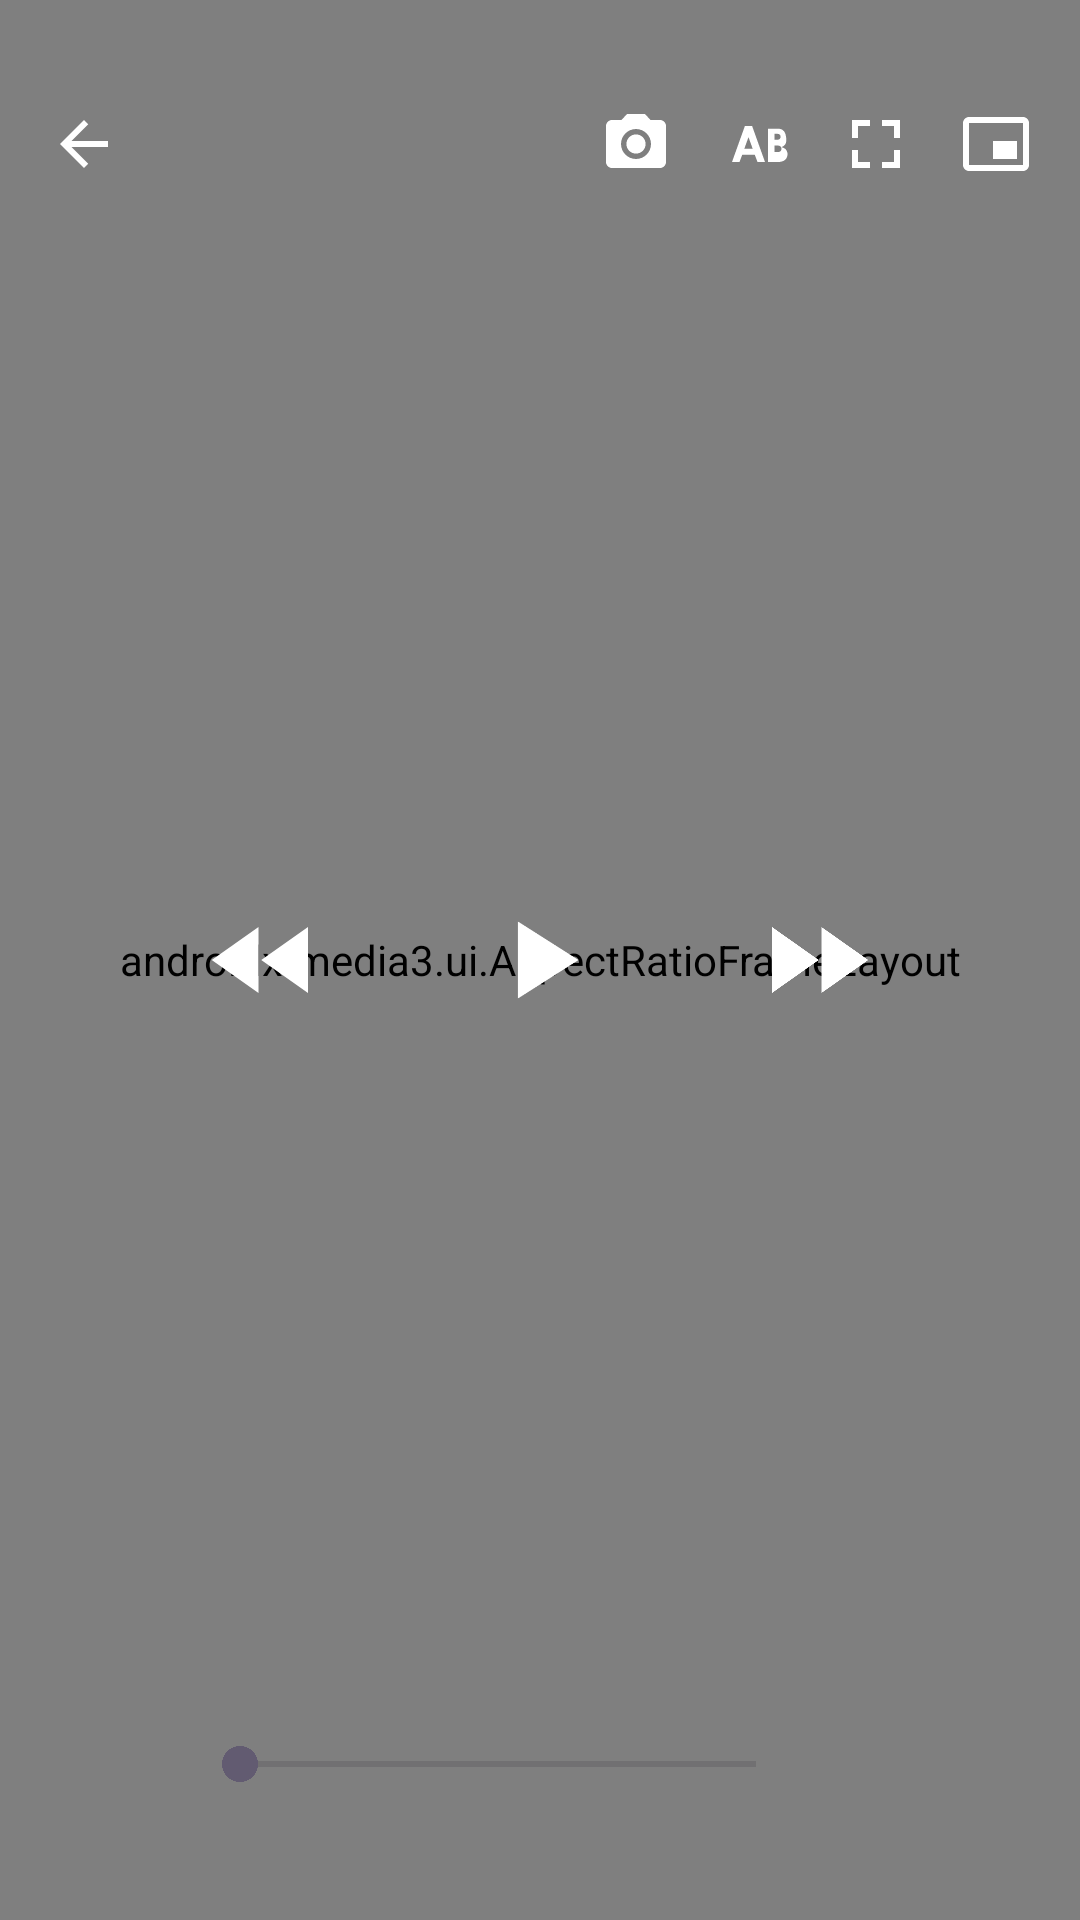

Where to tap for icons on this 1080×1920 app screen, as point (x, y):
A-B loop: point (760, 144)
Back: point (84, 144)
Picture in picture: point (996, 144)
Save frame: point (636, 141)
